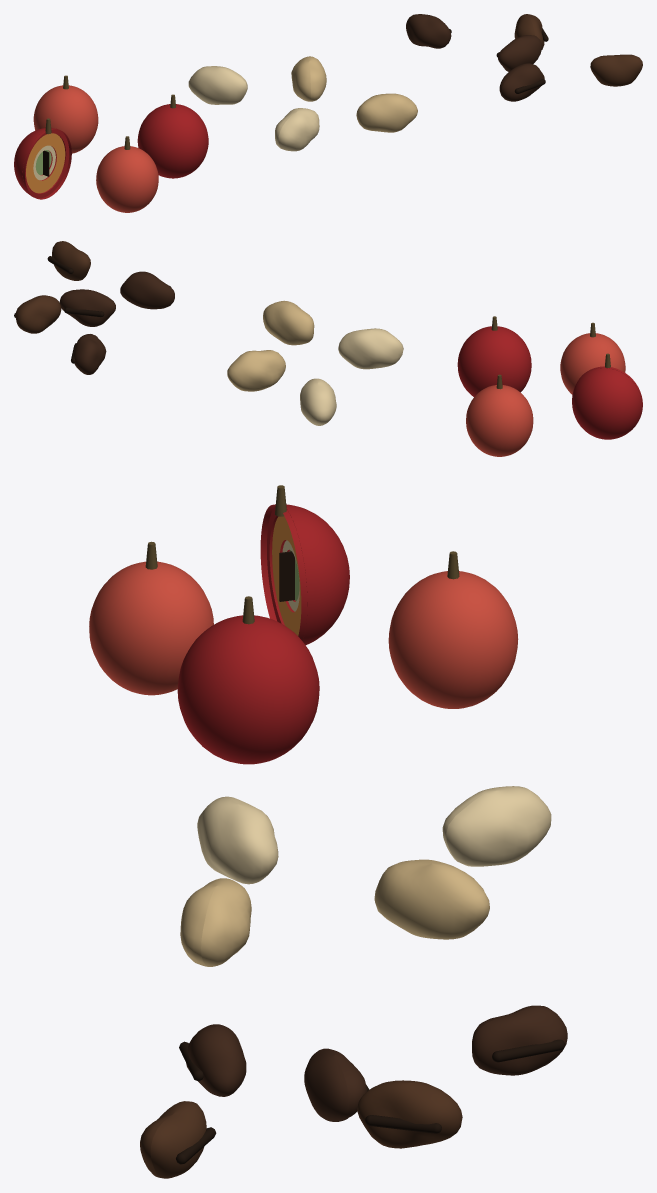
File: coffee-cherry-to-bean.glb
3 views of the same model, one above another, from view 1: azimuth 30°, elevation 25°; view 2: azimuth 150°, elevation 25°; view 3: azimuth 270°, elevation 25° (orthographic). The views are drawn at different scales.
Visible parts, largest first — view 1: cherry_3, cherry_4, cherry_2, parchmentBean_4, parchmentBean_3, parchmentBean_1, roastedBean_4, parchmentBean_2, roastedBean_3, cherrySkinShell, cherryCutPulp, roastedBean_1 (+3 smaller); view 2: cherrySkinShell, cherry_3, cherry_2, cherry_4, parchmentBean_1, parchmentBean_2, parchmentBean_4, roastedBean_1, parchmentBean_3, roastedBean_5, roastedBean_2, roastedBean_4 (+1 smaller); view 3: cherry_3, cherry_2, cherry_4, parchmentBean_2, cherrySkinShell, parchmentBean_3, parchmentBean_1, parchmentBean_4, roastedBean_2, roastedBean_3, roastedBean_4, roastedBean_5 (+2 smaller).
Boxes of the visible parts, x1=… form: cherry_3: x1=137, y1=104, x2=208, y2=178; cherry_4: x1=96, y1=146, x2=158, y2=212; cherry_2: x1=33, y1=85, x2=98, y2=153; parchmentBean_4: x1=356, y1=93, x2=417, y2=132; parchmentBean_3: x1=188, y1=66, x2=247, y2=104; parchmentBean_1: x1=275, y1=108, x2=319, y2=151; roastedBean_4: x1=590, y1=54, x2=642, y2=86; parchmentBean_2: x1=291, y1=56, x2=326, y2=101; roastedBean_3: x1=406, y1=14, x2=451, y2=48; cherrySkinShell: x1=14, y1=128, x2=71, y2=199; cherryCutPulp: x1=26, y1=133, x2=65, y2=193; roastedBean_1: x1=499, y1=63, x2=544, y2=101; cherrySkinShell: x1=572, y1=366, x2=642, y2=439; cherry_3: x1=457, y1=326, x2=531, y2=396; cherry_2: x1=466, y1=385, x2=533, y2=456; cherry_4: x1=560, y1=333, x2=625, y2=394; parchmentBean_1: x1=338, y1=328, x2=403, y2=369; parchmentBean_2: x1=227, y1=350, x2=285, y2=391; parchmentBean_4: x1=263, y1=300, x2=314, y2=345; roastedBean_1: x1=120, y1=271, x2=174, y2=309; parchmentBean_3: x1=300, y1=378, x2=336, y2=425; roastedBean_5: x1=59, y1=289, x2=115, y2=326; roastedBean_2: x1=15, y1=295, x2=61, y2=333; roastedBean_4: x1=52, y1=241, x2=90, y2=280; cherry_3: x1=177, y1=615, x2=319, y2=764; cherry_2: x1=388, y1=571, x2=518, y2=708; cherry_4: x1=89, y1=561, x2=213, y2=695; parchmentBean_2: x1=374, y1=859, x2=489, y2=939; cherrySkinShell: x1=260, y1=504, x2=349, y2=645; parchmentBean_3: x1=442, y1=786, x2=551, y2=866; parchmentBean_1: x1=197, y1=796, x2=278, y2=884; parchmentBean_4: x1=180, y1=878, x2=251, y2=966; roastedBean_2: x1=357, y1=1080, x2=462, y2=1148; roastedBean_3: x1=472, y1=1005, x2=567, y2=1075; roastedBean_4: x1=140, y1=1101, x2=206, y2=1178; roastedBean_5: x1=304, y1=1048, x2=366, y2=1121.
Size of the model in its own units: 0.127 by 0.0166 by 0.0444.
